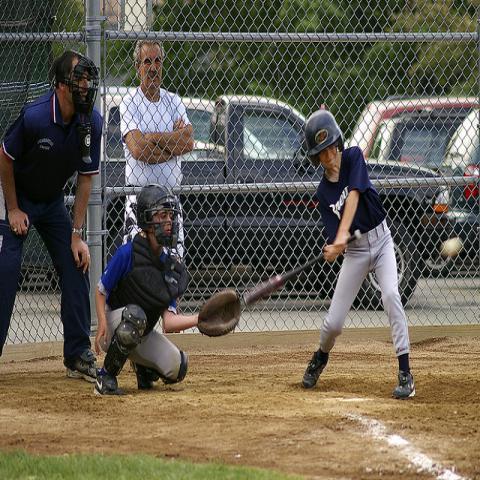car: (100, 86, 272, 162), (348, 88, 479, 160), (366, 112, 472, 174), (442, 110, 480, 224)
truck: (178, 94, 448, 310)
